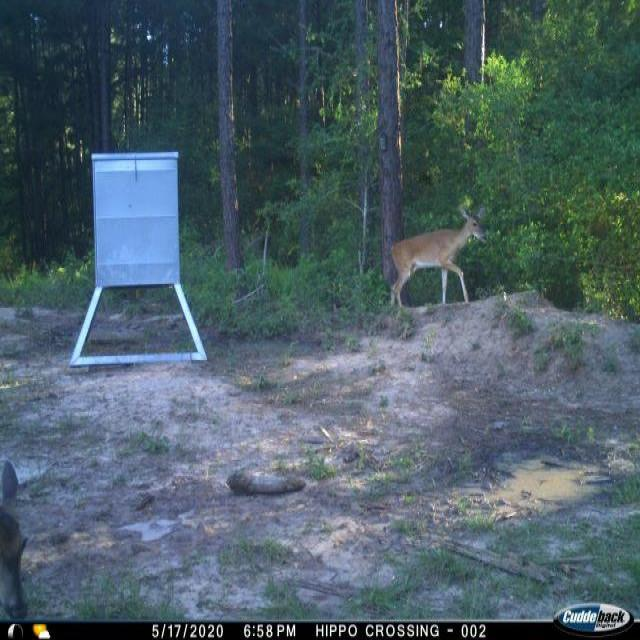deer: (387, 201, 492, 314), (0, 453, 35, 618)
